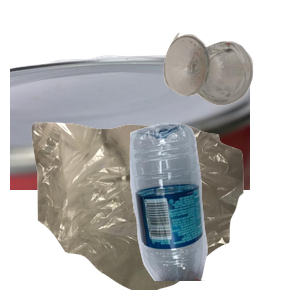glass: (161, 30, 300, 128)
metal: (10, 52, 250, 232)
plastic: (127, 120, 300, 300)
trash: (29, 120, 265, 300)
